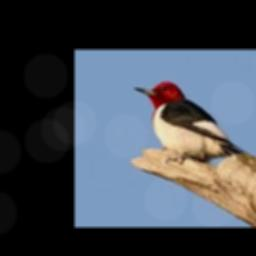Woodpecker: (134, 81, 244, 159)
